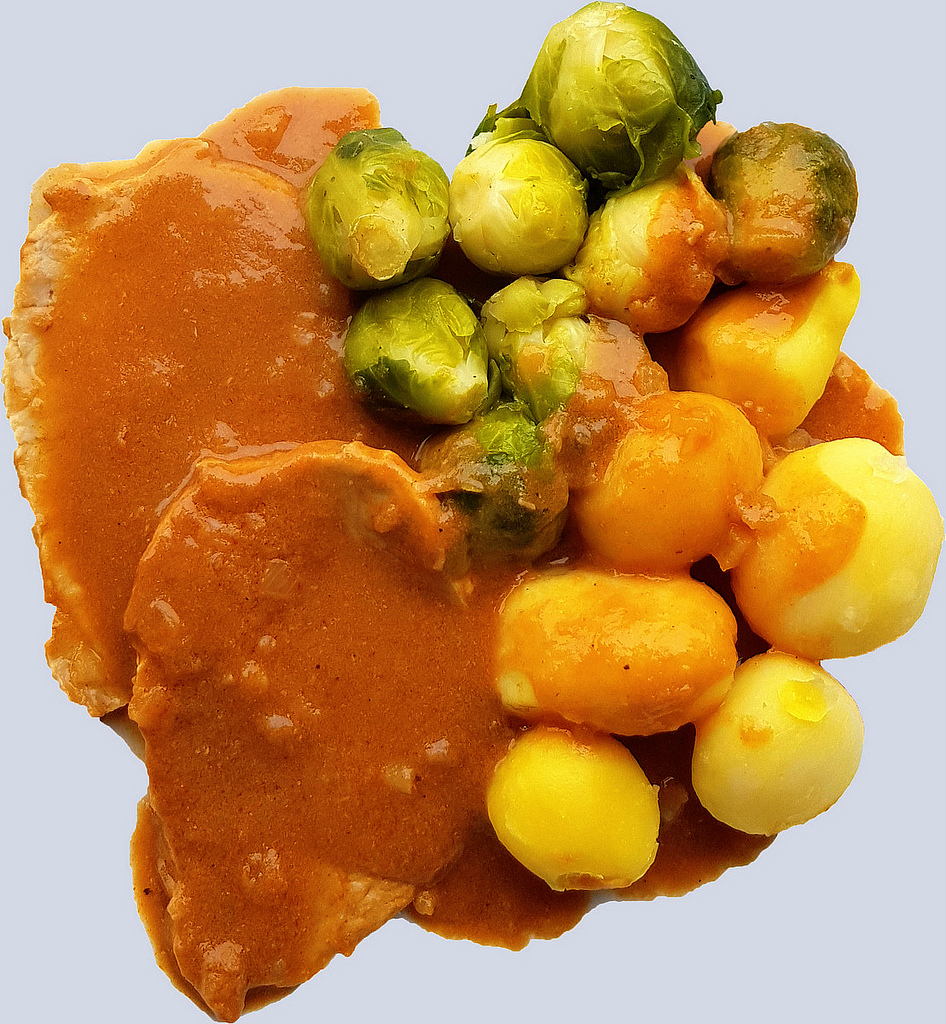boiled potatoes: (723, 441, 946, 630), (525, 574, 742, 726), (613, 393, 780, 569), (713, 674, 858, 833)
chopped lettuce: (539, 23, 694, 187), (363, 298, 577, 410), (330, 142, 456, 262)
